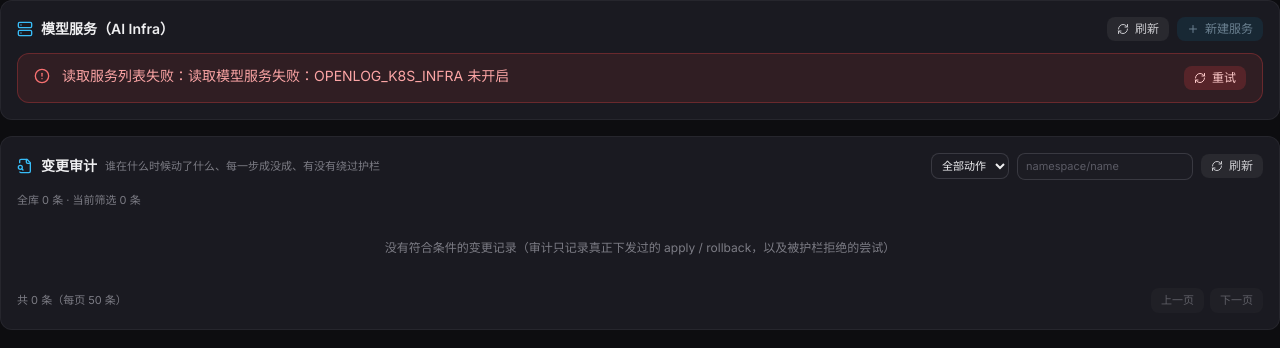
InfraPanel 列表 › 列表读取失败：错误条 + 服务端消息，点重试重新请求
The image size is (1280, 348).
Click the button "重试" at (1215, 78), box 1184,66 -> 1246,90
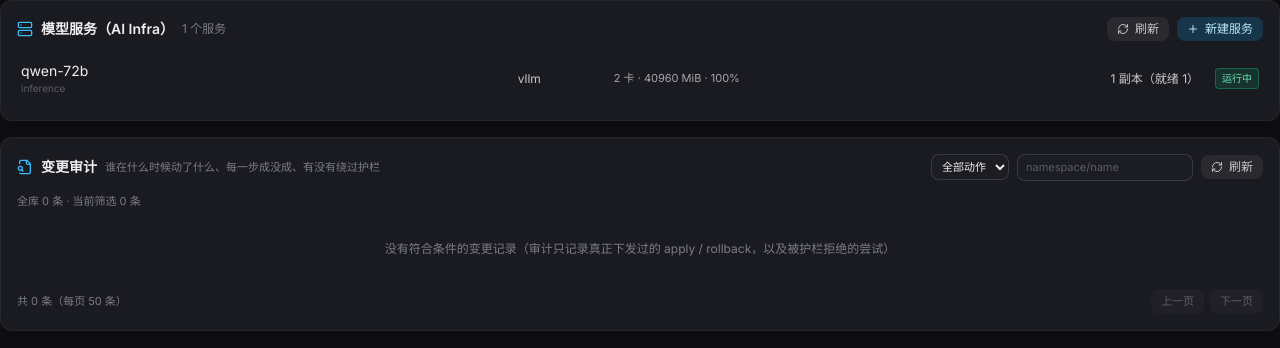
expect the number of buttons with test id "infra-service-row" is 1: met, box 17,53 -> 1263,104
